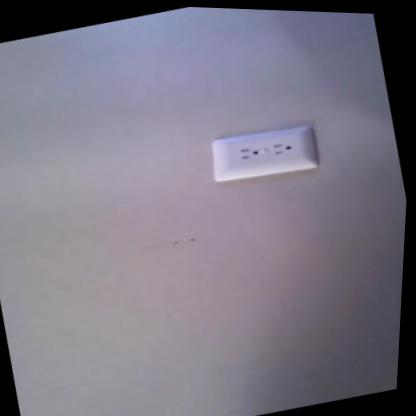OUTLET: (207, 119, 321, 188)
